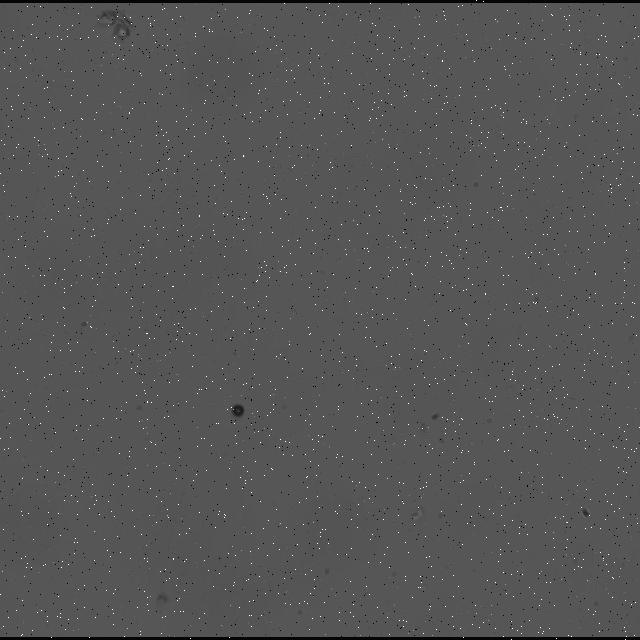microbeads: (230, 402, 244, 421)
